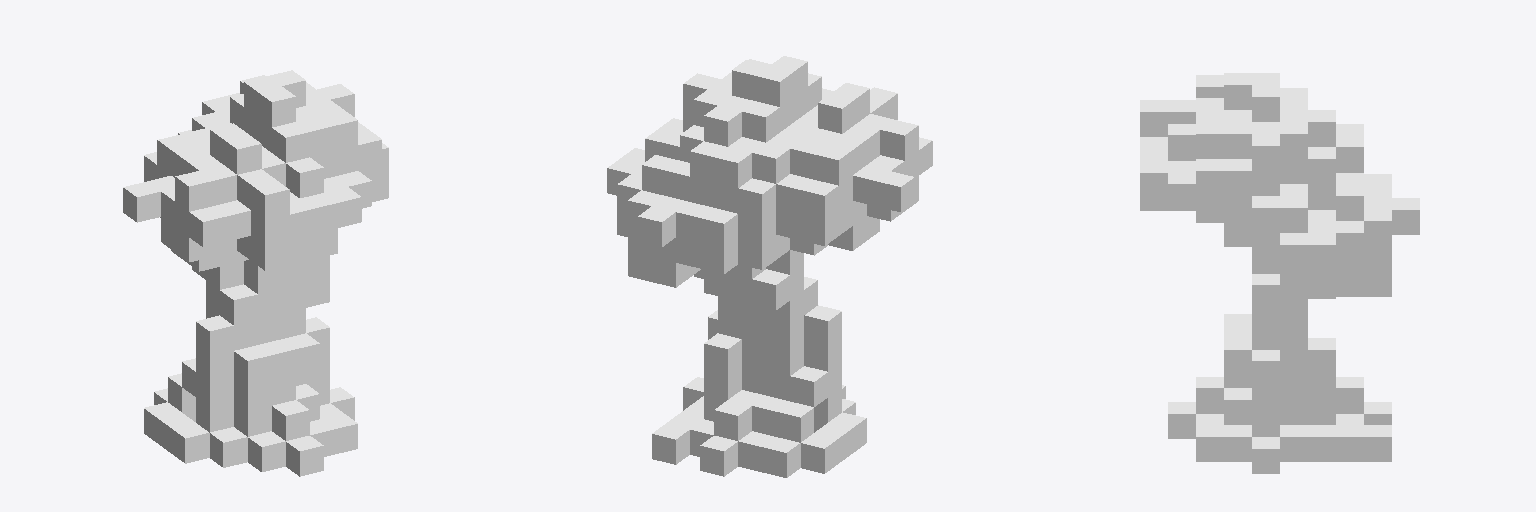
File: Tree-4.obj
3 views of the same model, side by side, from view 1: azimuth 30°, elevation 25°; view 2: azimuth 150°, elevation 25°; view 3: azimuth 270°, elevation 25° (orthographic).
Parts seen in each view (by area): view 1: object 1; view 2: object 1; view 3: object 1.
Part boxes in pixels (bbox=[...]): object 1: bbox=[123, 70, 388, 476]; object 1: bbox=[607, 56, 932, 477]; object 1: bbox=[1140, 73, 1419, 473].
Size of the model in its own units: 1.1 by 1.4 by 1.